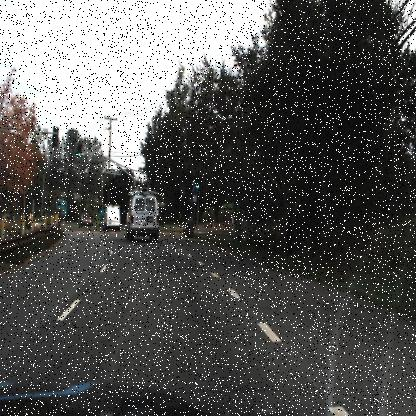car: (126, 189, 162, 243), (104, 202, 123, 233), (78, 207, 93, 230)
trafficLight-Green: (73, 140, 85, 163), (194, 173, 203, 192), (195, 180, 204, 197), (132, 190, 139, 200)
